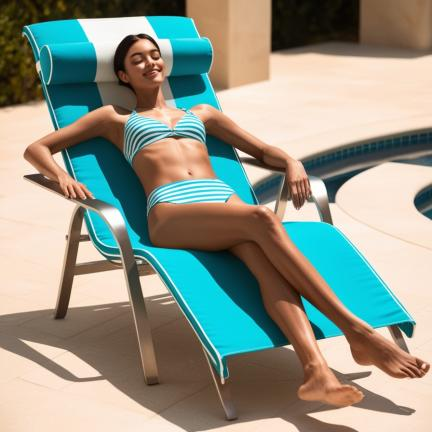guest on chair: (24, 17, 429, 419)
